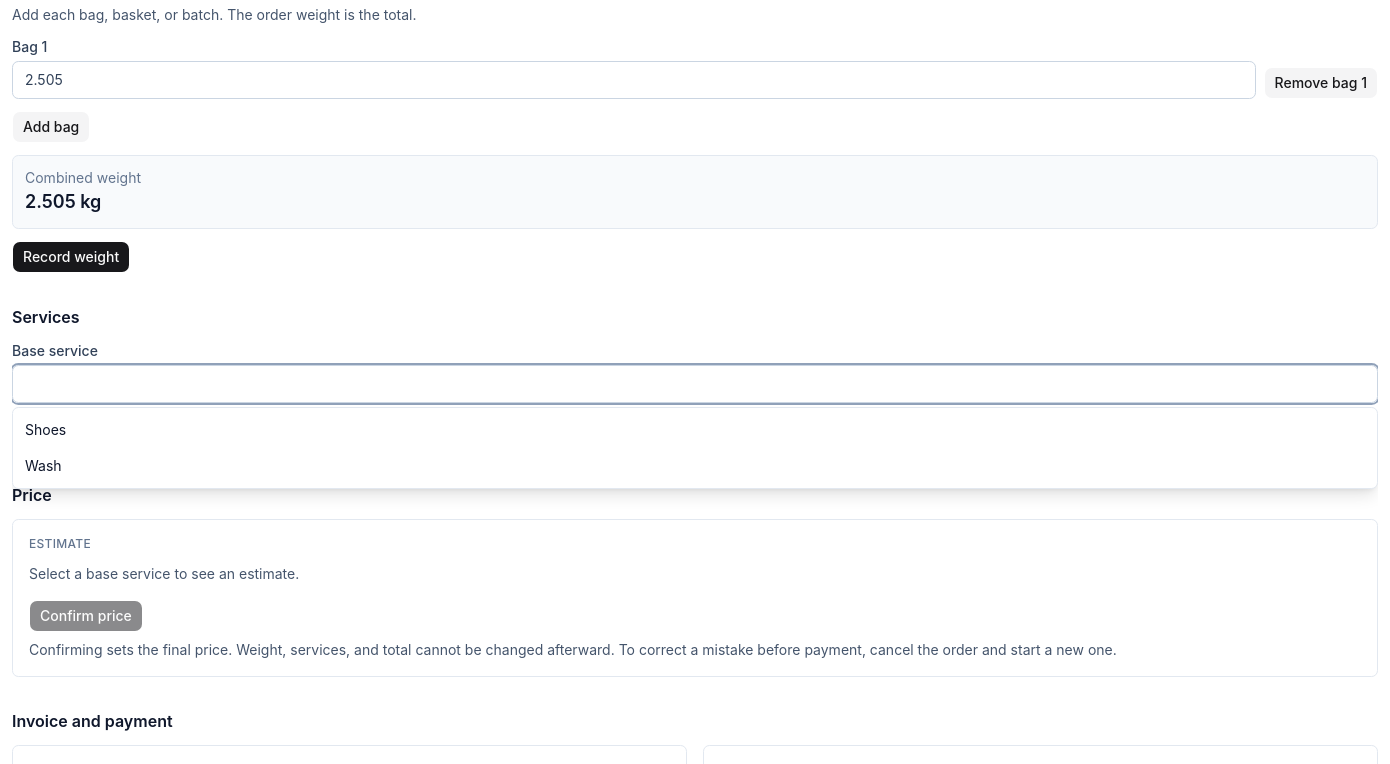
Scenario: order page price review (#162) › case 1: builds the estimate from the preview and enables Confirm only when ready
(page scrolled)
Check: the element with id "laundry-order-price" is shown, box [12, 483, 1378, 677]
Check: the button "Confirm price" is disabled, box [29, 600, 143, 632]
What coordinates should you click on to do the following:
click the option "Wash"
I would click on:
 (43, 466)
Its box is [25, 457, 62, 474].
Wait 900 ms
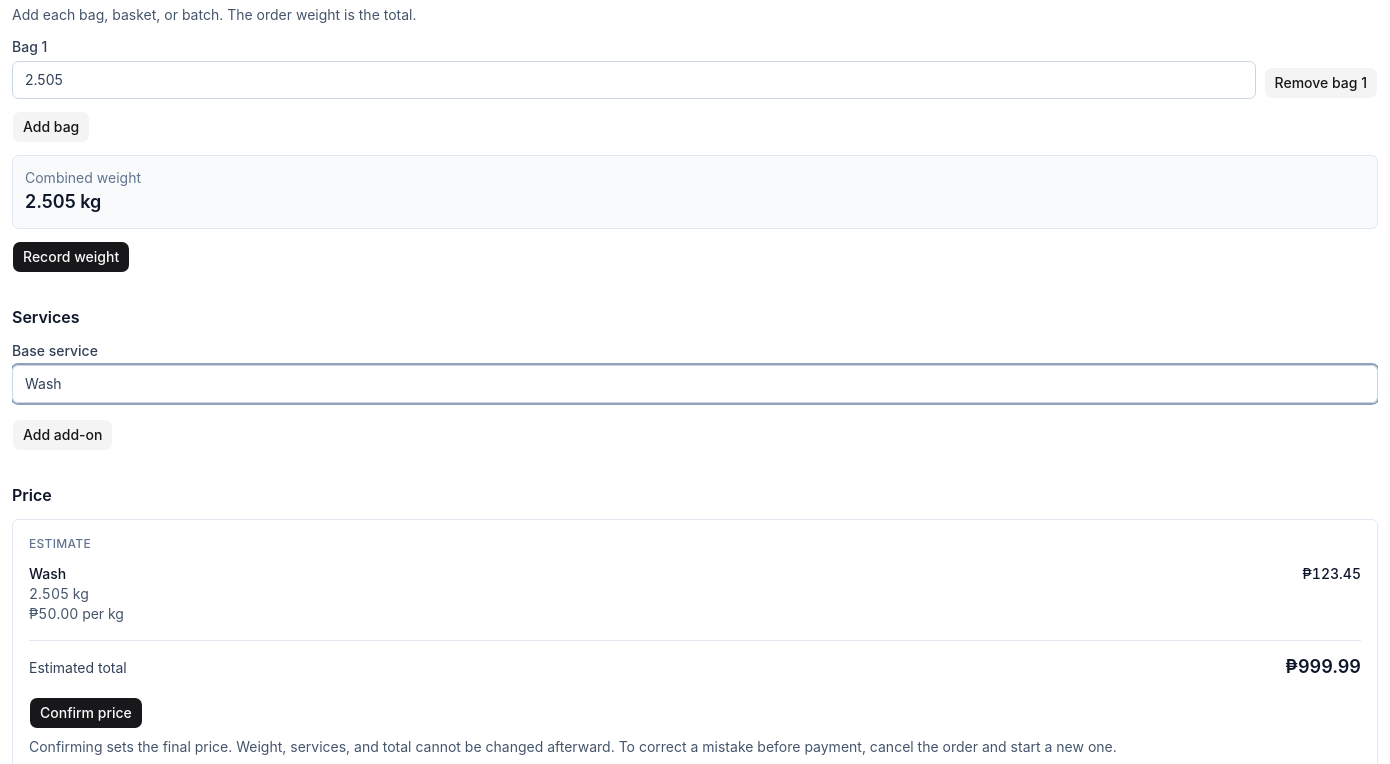
Check: the element with id "laundry-order-price" shows "Wash", box [29, 565, 66, 582]
Check: the element with id "laundry-order-price" shows "2.505 kg", box [29, 585, 89, 602]
Check: the element with id "laundry-order-price" shows "₱50.00 per kg", box [29, 605, 124, 622]
